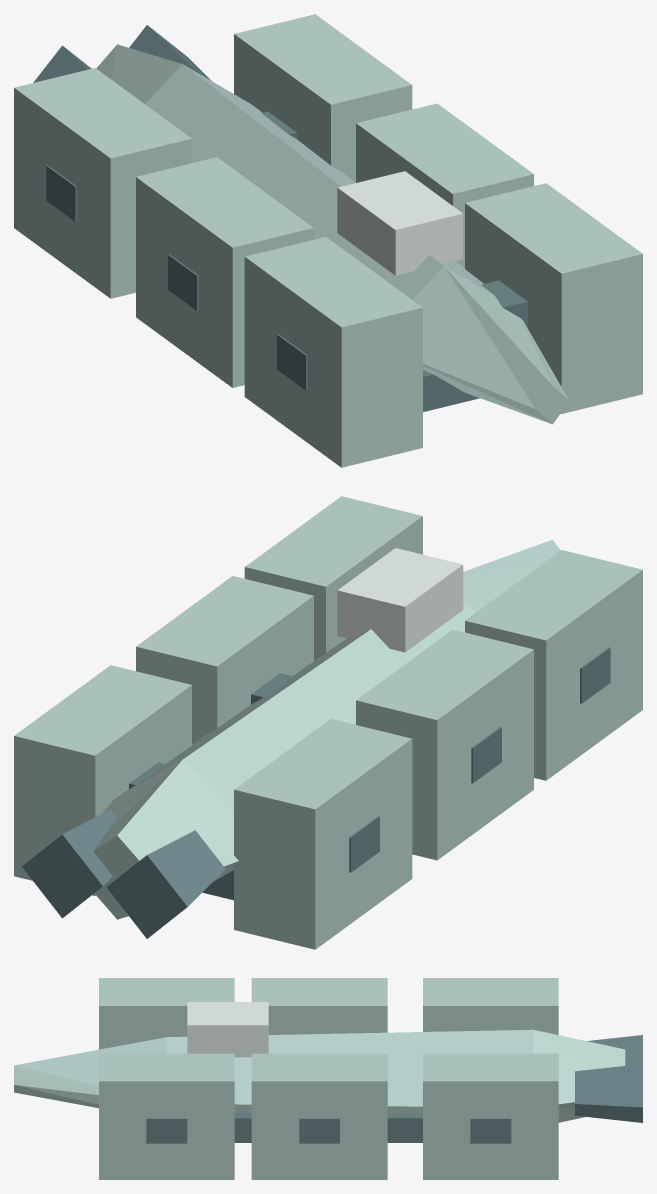
3 views of the same model, one above another, from view 1: azimuth 30°, elevation 25°; view 2: azimuth 150°, elevation 25°; view 3: azimuth 270°, elevation 25° (orthographic). The views are drawn at different scales.
Size of the model in its own units: 3.53 by 1.8 by 8.98.
